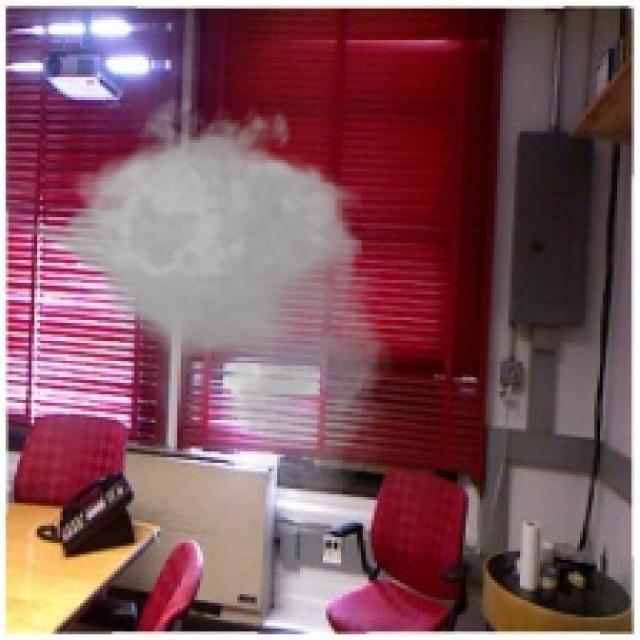Smoke: (8, 82, 403, 508)
